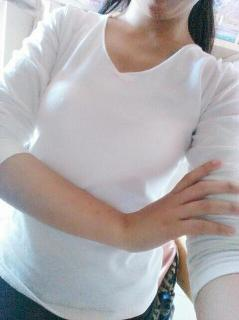long sleeve top: (0, 5, 239, 319)
